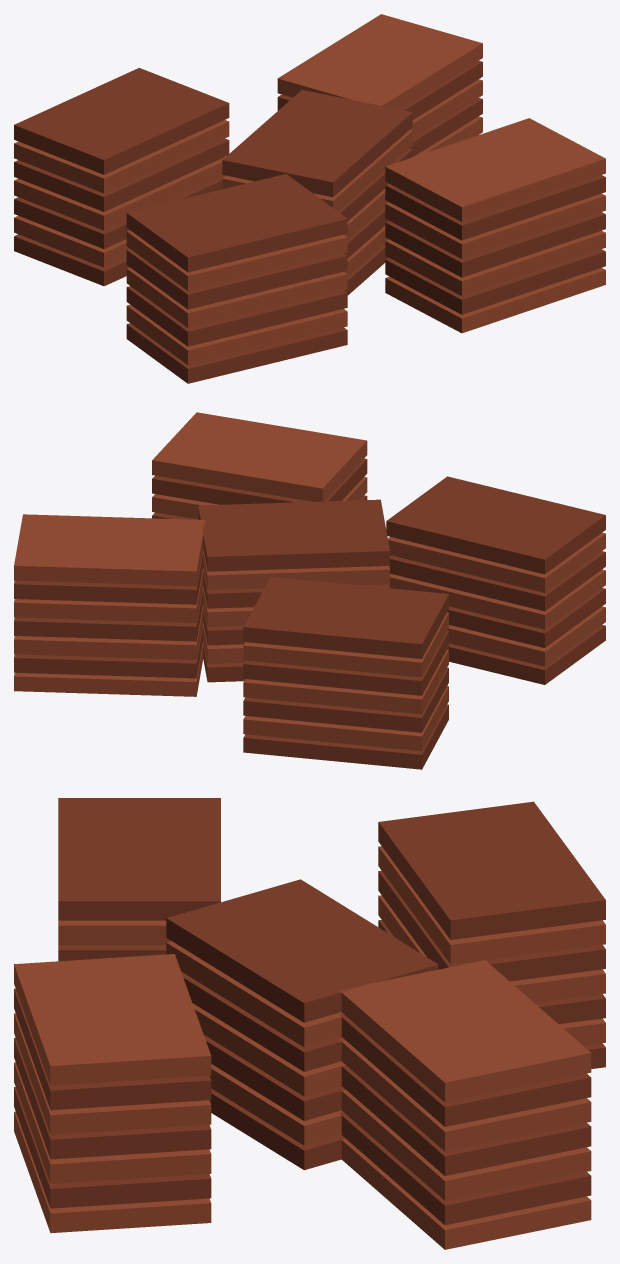
File: pile_roof_tiles_3.glb
The picture shows the model from 3 angles, top to bottom: view 1: azimuth 30°, elevation 25°; view 2: azimuth 150°, elevation 25°; view 3: azimuth 270°, elevation 25°; orthographic projection. The views are drawn at different scales.
Visible parts, largest first — view 1: pile_roof_tiles_3; view 2: pile_roof_tiles_3; view 3: pile_roof_tiles_3.
Part boxes in pixels (left/top/right/bottom): pile_roof_tiles_3: left=14, top=14, right=605, bottom=383; pile_roof_tiles_3: left=14, top=412, right=605, bottom=769; pile_roof_tiles_3: left=14, top=798, right=605, bottom=1249.
Size of the model in its own units: 1.24 by 0.34 by 1.09.
